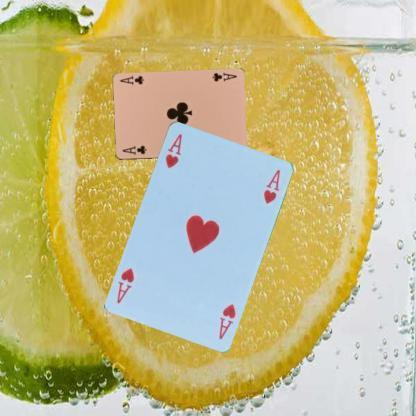Ac: (209, 70, 238, 84), (120, 143, 148, 157)
Ah: (162, 130, 184, 170), (216, 300, 237, 340)
